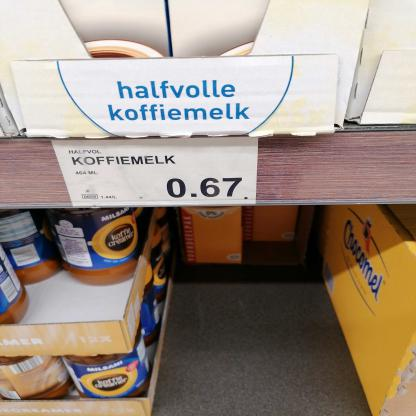prtg: (51, 137, 261, 209)
